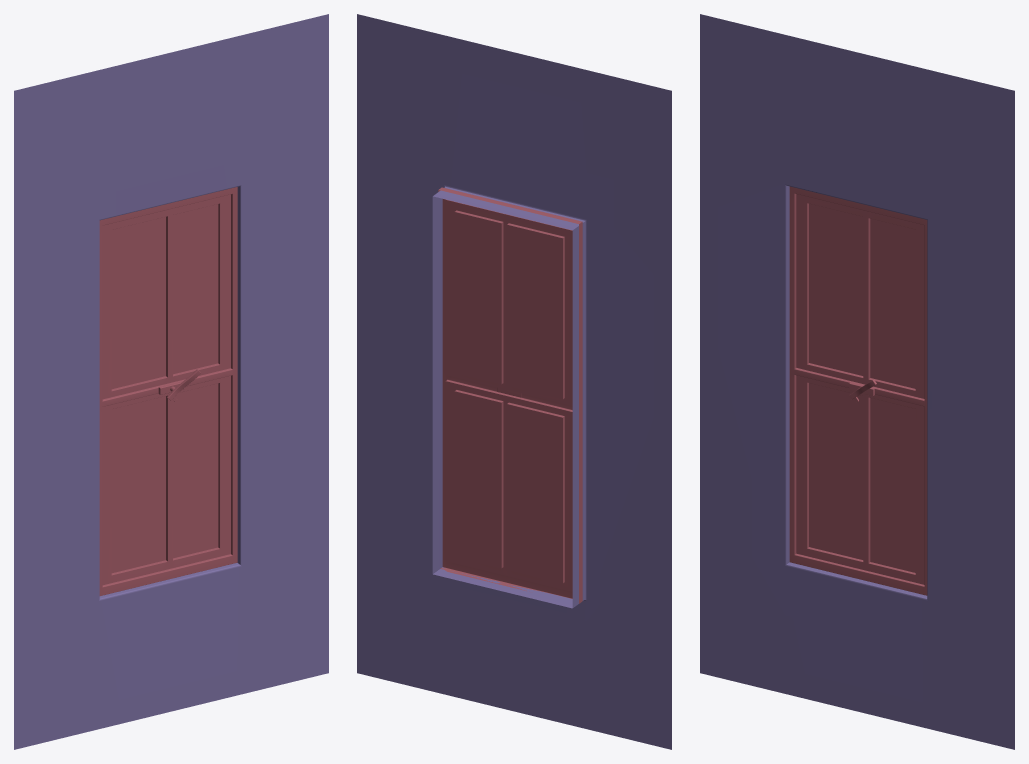
Rendered from environmentproject_wallwindow_a.fbx.
The picture shows the model from 3 angles, left to right: view 1: azimuth 30°, elevation 25°; view 2: azimuth 150°, elevation 25°; view 3: azimuth 330°, elevation 25°; orthographic projection.
Visible parts, largest first — view 1: wallbrick_window_a_GEO_01; view 2: wallbrick_window_a_GEO_01; view 3: wallbrick_window_a_GEO_01.
Boxes of the visible parts, x1,y1,x2,y2 form: wallbrick_window_a_GEO_01: (14, 14, 328, 749); wallbrick_window_a_GEO_01: (357, 14, 671, 749); wallbrick_window_a_GEO_01: (700, 14, 1014, 749).
Bounding box in the file's own units: 200 × 400 × 20.52.
